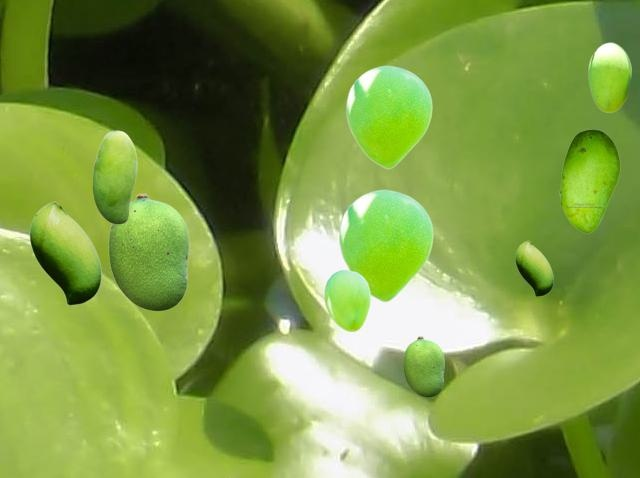green_mango: (339, 189, 432, 301), (108, 193, 188, 310), (346, 65, 431, 168), (29, 201, 100, 304), (559, 129, 619, 232), (92, 130, 136, 223), (588, 42, 630, 111), (324, 270, 369, 330), (403, 336, 443, 396), (515, 240, 552, 295)
